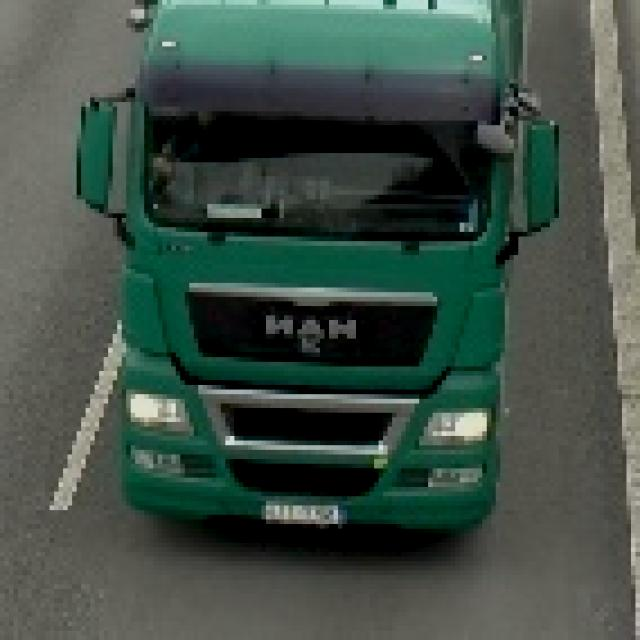truck: (73, 1, 555, 539)
